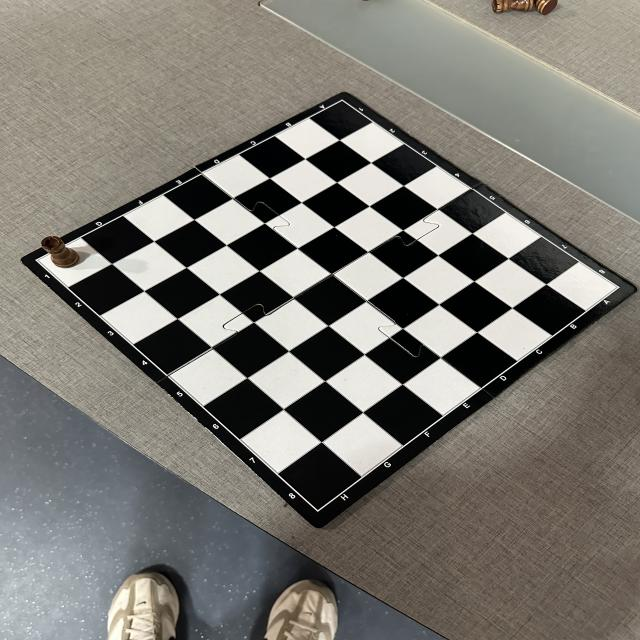Black-Rook: (40, 235, 81, 269)
